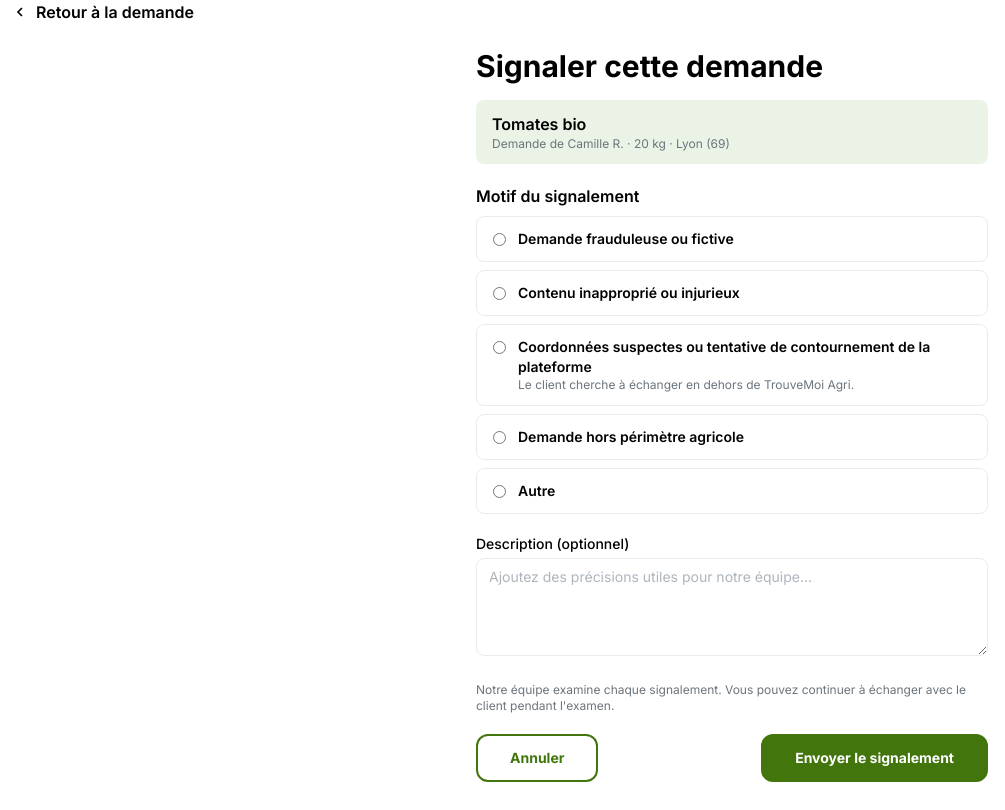
Test: ReportComponent › affiche le message du serveur quand le signalement est refusé
Click the radio button labelled "Demande frauduleuse ou fictive" at (500, 240), box [493,233,506,246]
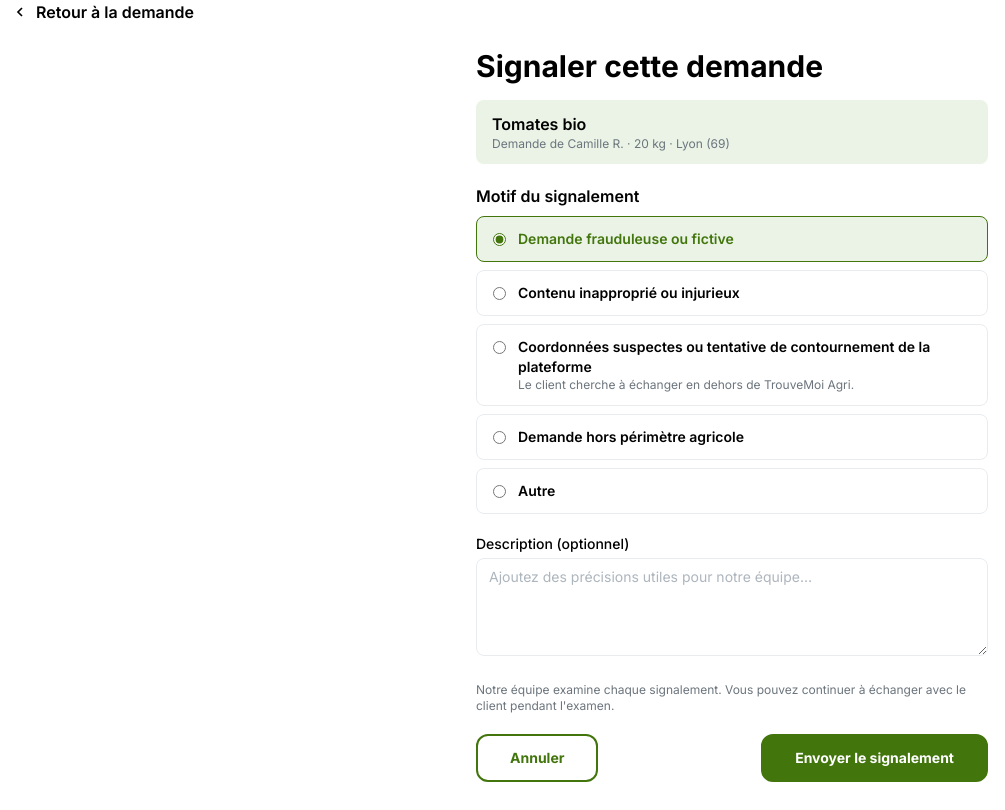
Submit the form, box [476,184,988,782]
(page scrolled)
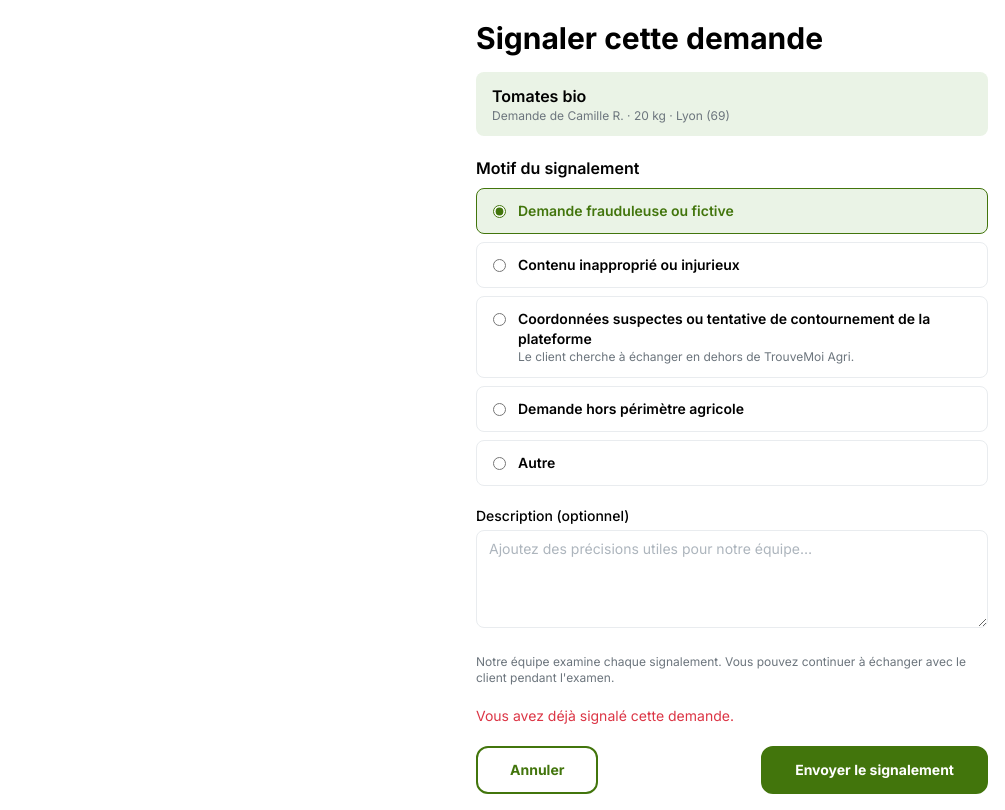
Check: the form is shown, box [476,156,988,794]
Check: the message "Vous avez déjà signalé cette demande." is shown, box [476,707,734,724]
